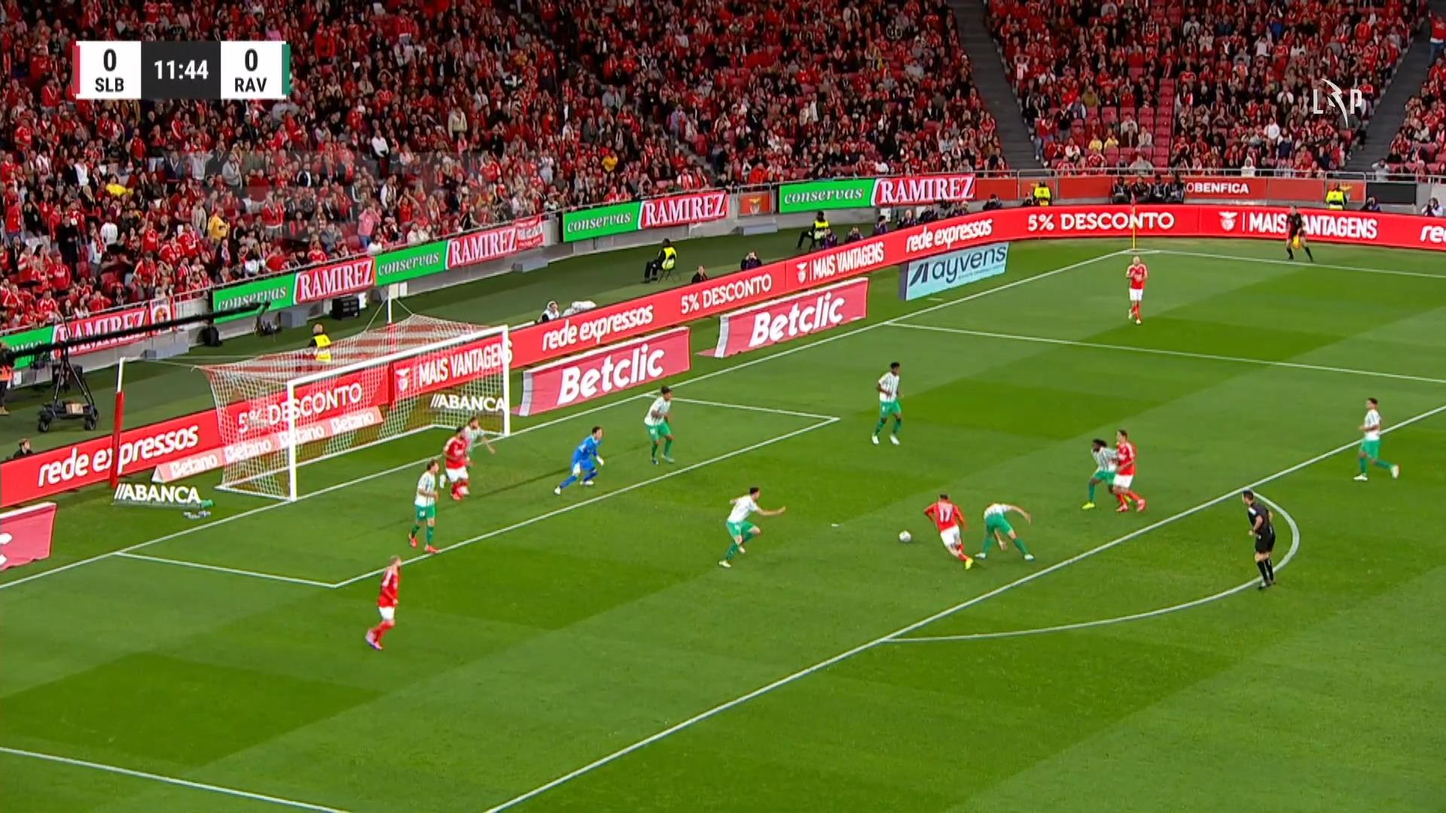ball: (898, 530, 911, 542)
goalkeeper: (552, 425, 605, 495)
player: (717, 486, 786, 568), (923, 492, 975, 570), (1352, 396, 1399, 481), (974, 501, 1035, 562), (364, 555, 401, 650), (1081, 437, 1129, 510), (407, 458, 441, 554), (1109, 428, 1146, 513), (871, 361, 904, 445), (643, 385, 675, 465), (441, 427, 471, 501), (1124, 254, 1148, 324), (461, 417, 498, 457)
referee: (1240, 488, 1277, 589), (1283, 204, 1313, 262)
